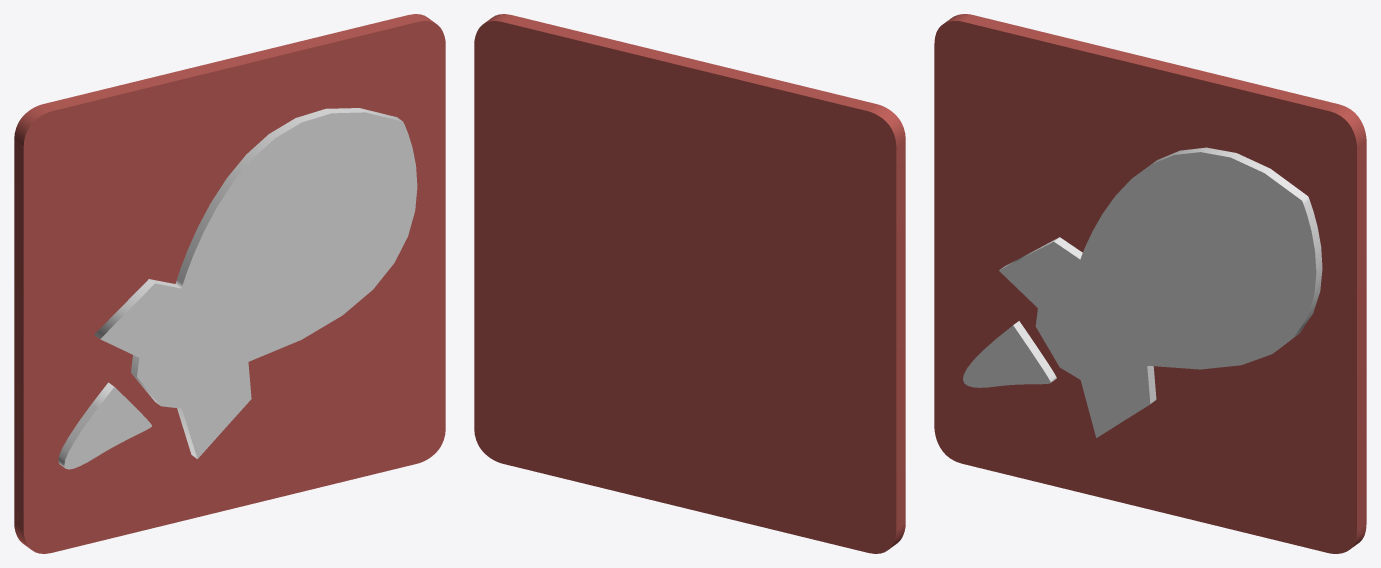
File: iconfuze.fbx
The picture shows the model from 3 angles, left to right: view 1: azimuth 30°, elevation 25°; view 2: azimuth 150°, elevation 25°; view 3: azimuth 330°, elevation 25°; orthographic projection.
Visible parts, largest first — view 1: Curve.002; view 2: Curve.002; view 3: Curve.002.
Boxes of the visible parts, x1,y1,x2,y2 form: Curve.002: [14, 14, 445, 553]; Curve.002: [474, 14, 905, 553]; Curve.002: [934, 14, 1366, 553].
Bounding box in the file's own units: 5.13 × 5.13 × 0.3284.
